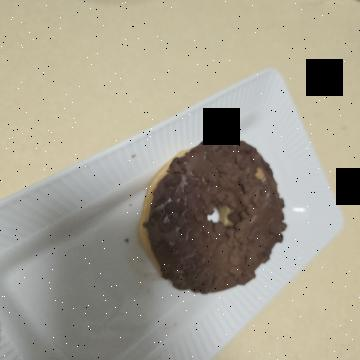doughnut: (118, 67, 312, 229)
